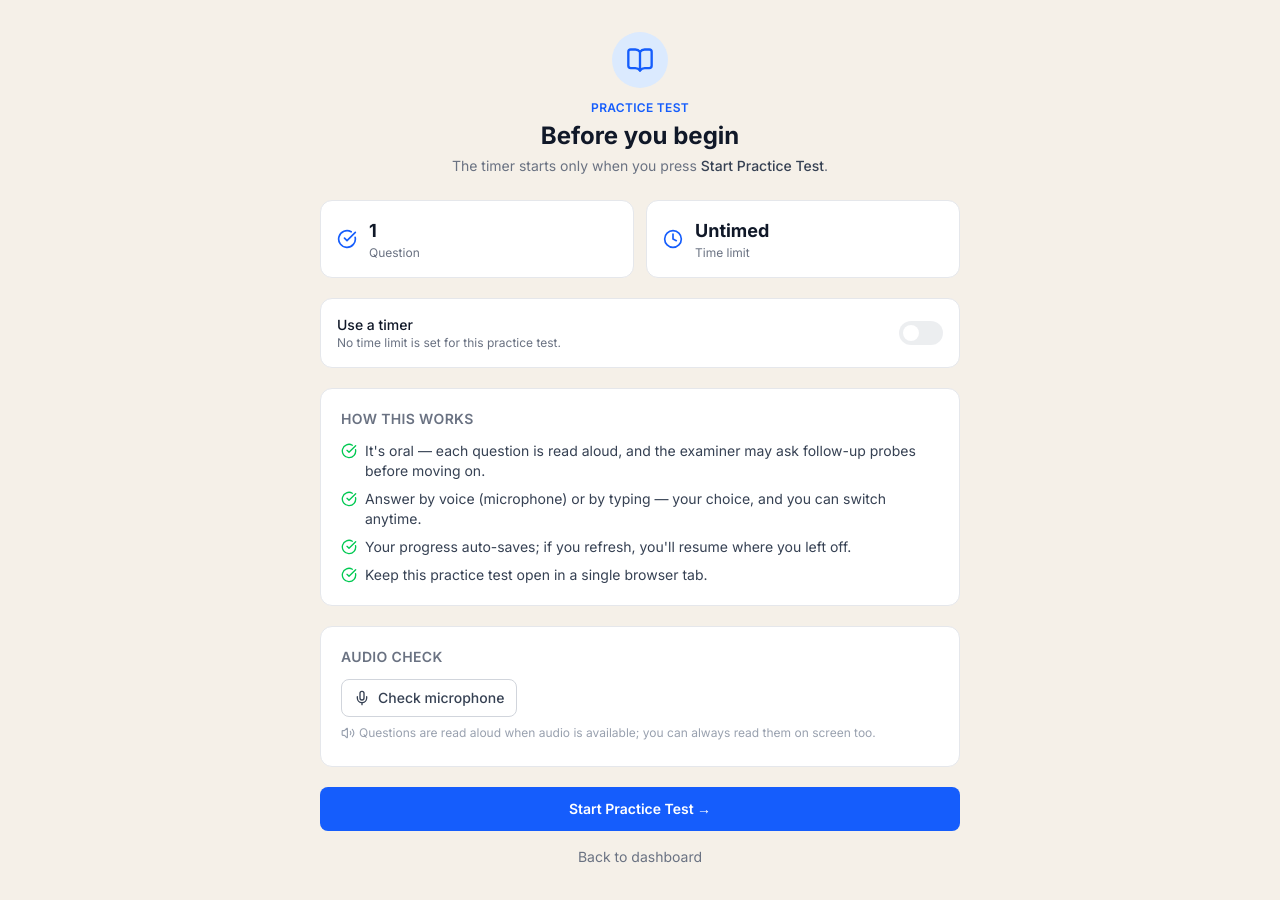
it: in-exam EDS and concept map › stay visible on a practice test — nothing there is graded
Click the button "Start Practice Test →": [640, 809] box [320,787,960,831]
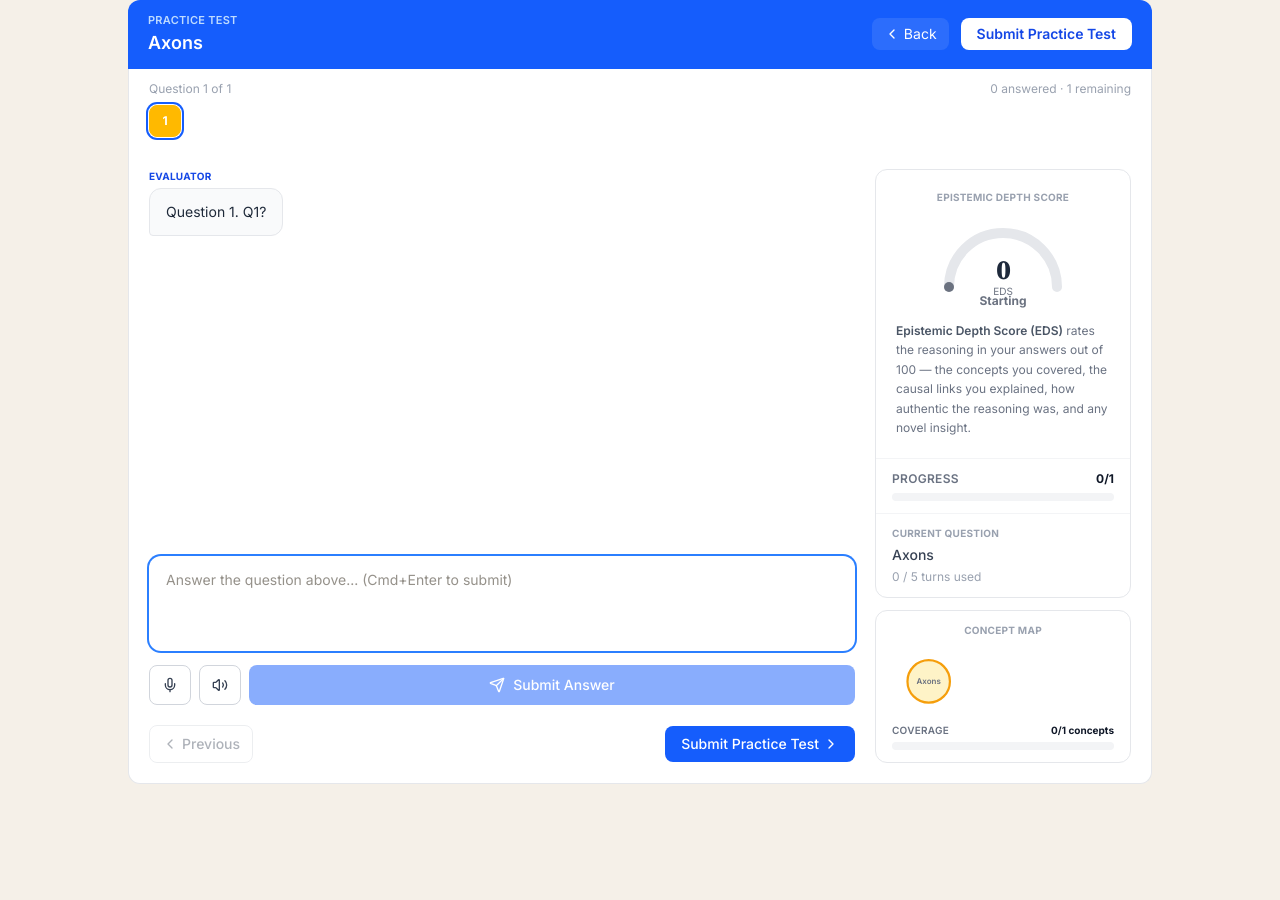
Now the text box with placeholder "Answer the question above... (Cmd+Enter to submit)" is shown, box [149,556,855,651]
Now the text "Epistemic Depth Score" is shown, box [937,190,1069,202]
Now the text "Concept Map" is shown, box [964,624,1042,636]
